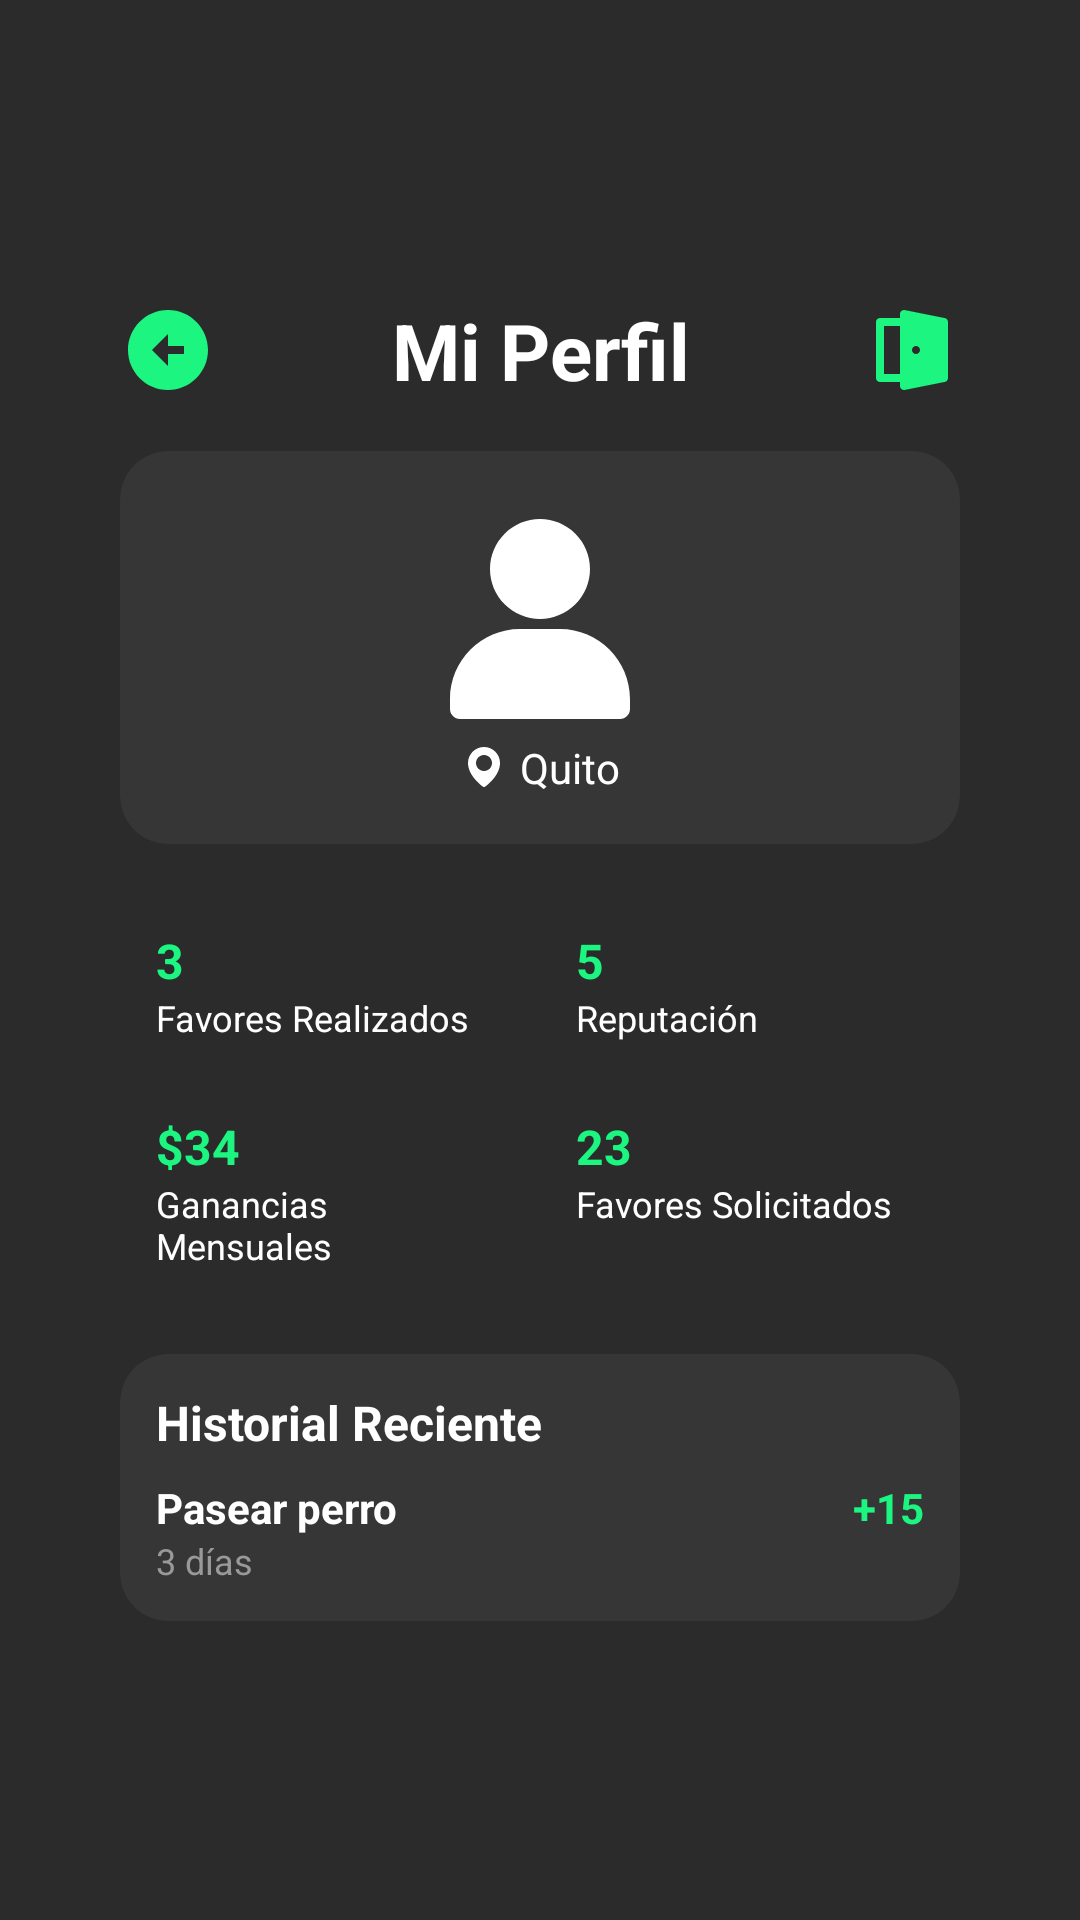

Icons on this 1080×1920 Android screen, each with the point to tap as point (x, y):
Avatar del usuario: point (540, 619)
return: point (168, 350)
ubication: point (484, 767)
